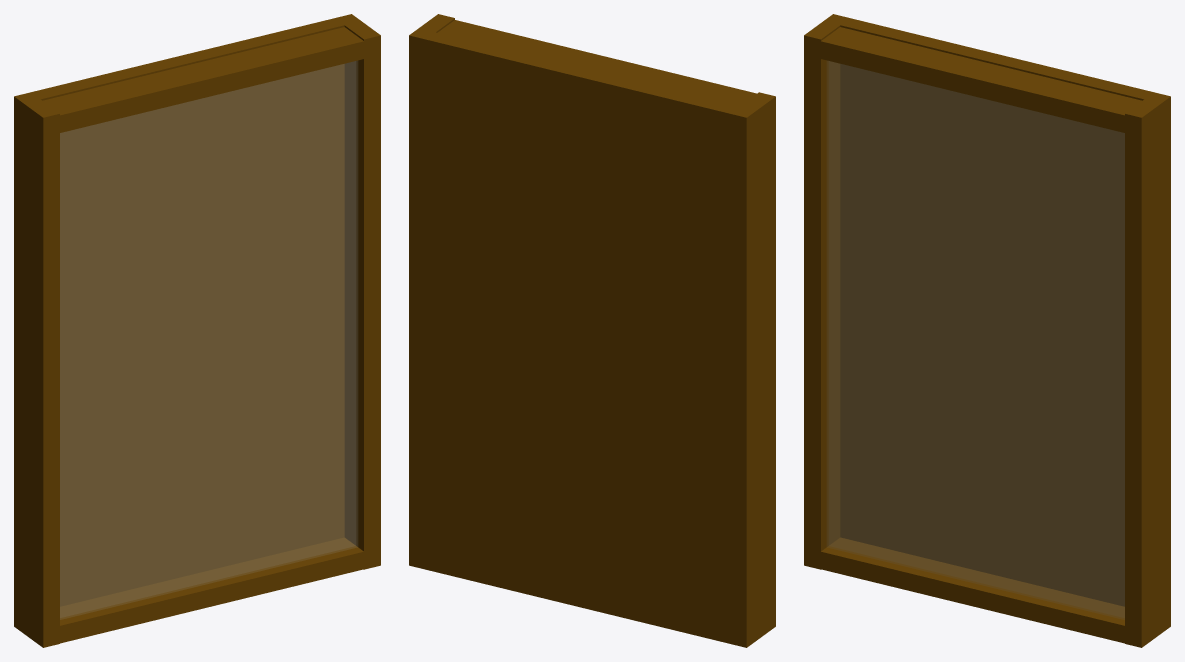
File: picture_frame.fbx
3 views of the same model, side by side, from view 1: azimuth 30°, elevation 25°; view 2: azimuth 150°, elevation 25°; view 3: azimuth 330°, elevation 25° (orthographic).
Visible parts, largest first — view 1: pCube6, pCube1, pCube2, pCube3, pCube4, pCube5; view 2: pCube1, pCube2, pCube5, pCube3, pCube4; view 3: pCube6, pCube1, pCube3, pCube2, pCube4, pCube5.
Part boxes in pixels (left/top/right/bottom): pCube6: left=60, top=61, right=357, bottom=619; pCube1: left=14, top=14, right=360, bottom=633; pCube2: left=14, top=92, right=59, bottom=647; pCube3: left=335, top=14, right=380, bottom=569; pCube4: left=14, top=537, right=380, bottom=647; pCube5: left=14, top=27, right=380, bottom=136; pCube1: left=409, top=28, right=756, bottom=647; pCube2: left=730, top=92, right=775, bottom=647; pCube5: left=409, top=20, right=775, bottom=136; pCube3: left=409, top=14, right=454, bottom=567; pCube4: left=409, top=547, right=775, bottom=645; pCube6: left=827, top=61, right=1124, bottom=619; pCube1: left=826, top=14, right=1170, bottom=633; pCube3: left=1125, top=92, right=1170, bottom=647; pCube2: left=804, top=14, right=849, bottom=569; pCube4: left=804, top=537, right=1170, bottom=647; pCube5: left=806, top=27, right=1170, bottom=136.
Size of the model in its own units: 10 by 15 by 1.5.
